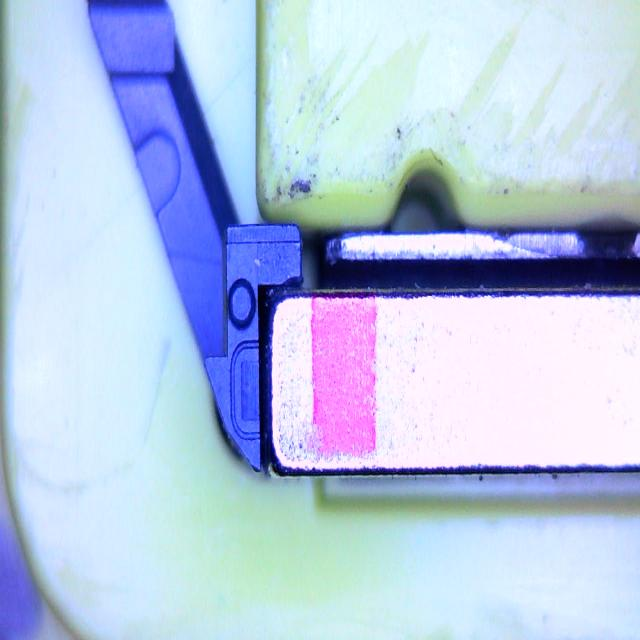noResin: (229, 337, 265, 440)
